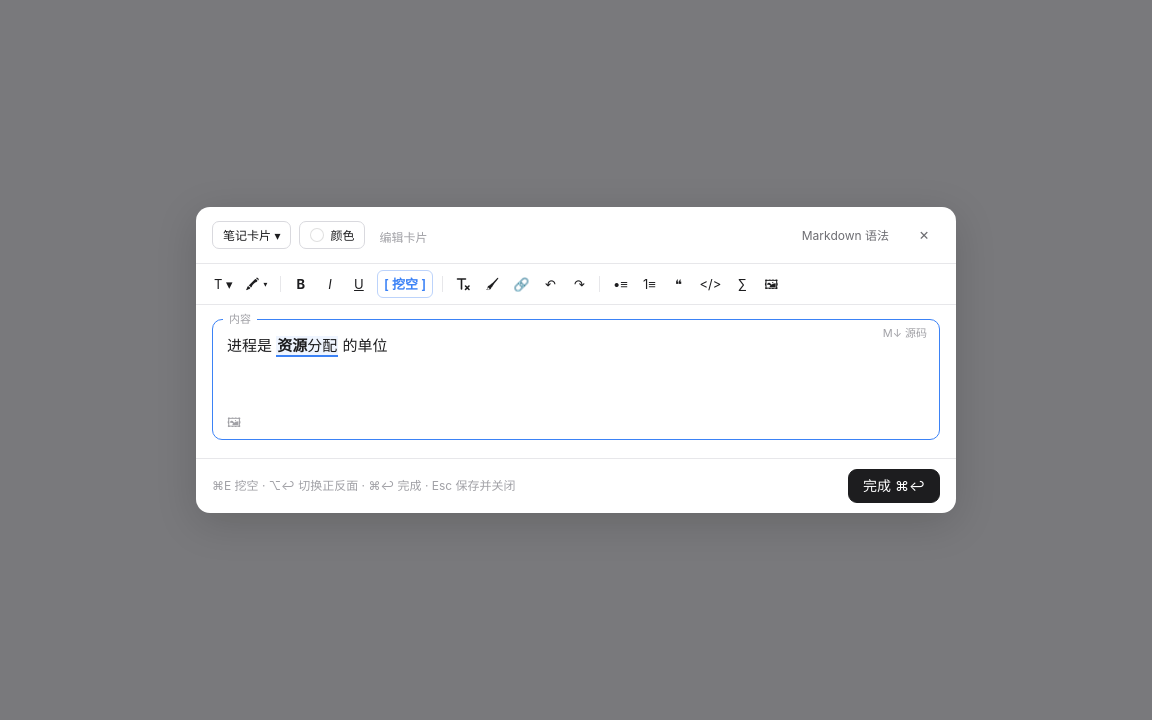
Test: 卡片编辑器 › 编辑笔记卡：挖空显示、切源码再切回来内容不变
expect the text box with class "cloze" is shown: met, box [276, 336, 338, 357]
expect the text box labelled "资源" is shown: met, box [277, 336, 307, 355]
Click the button "M↓ 源码". click: (905, 334)
box: [877, 324, 933, 344]
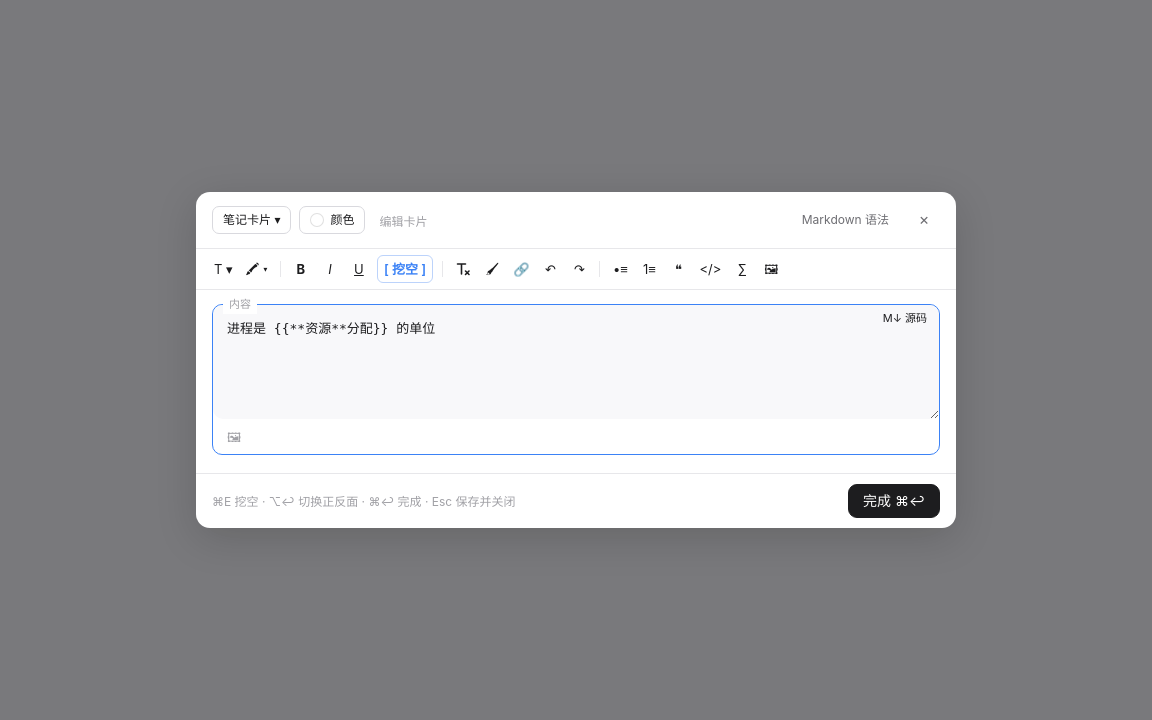
Click the button "M↓ 源码". click: (905, 319)
box: [877, 309, 933, 328]
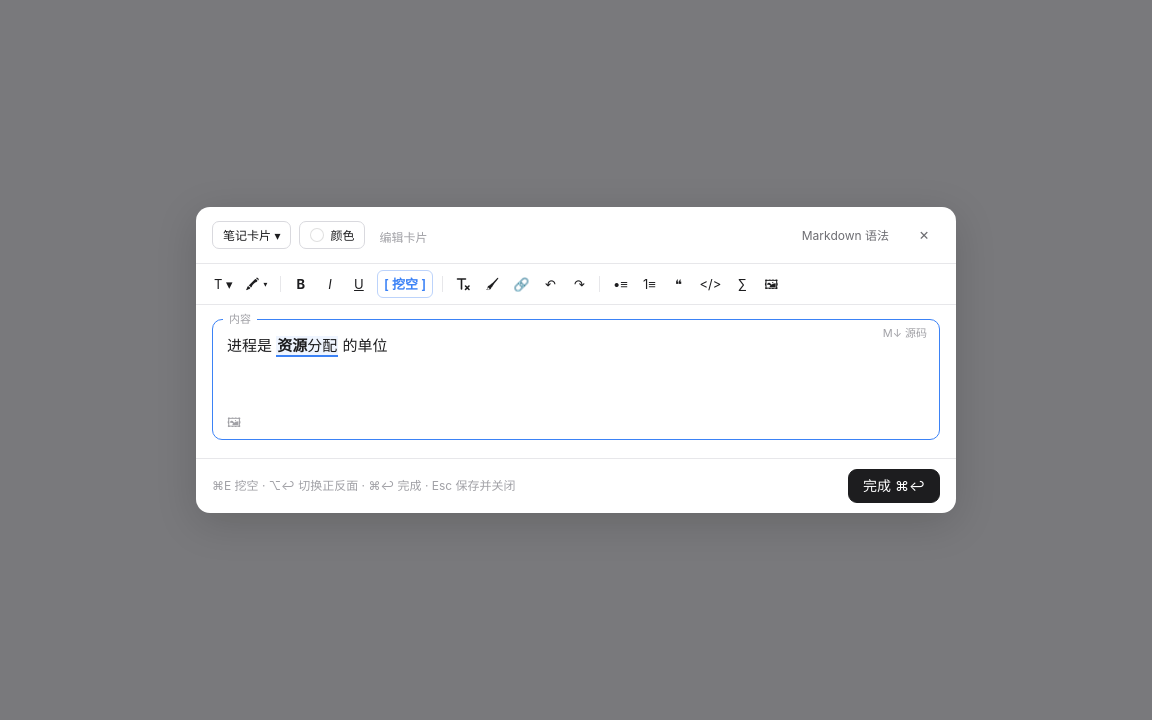
expect the text box with class "cloze" is shown: met, box [276, 336, 338, 357]
